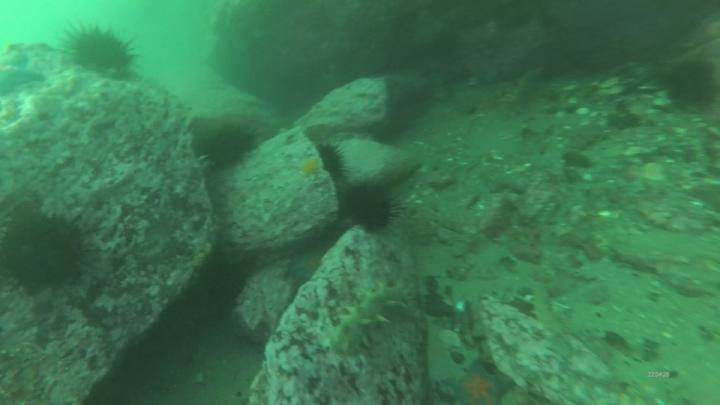echinus: (8, 218, 85, 286), (65, 31, 138, 74), (666, 60, 720, 112), (342, 185, 395, 227), (205, 126, 257, 164), (322, 143, 344, 176)
holothurian: (332, 286, 407, 358), (531, 285, 564, 336)
starfish: (449, 363, 510, 405), (301, 159, 321, 175)
